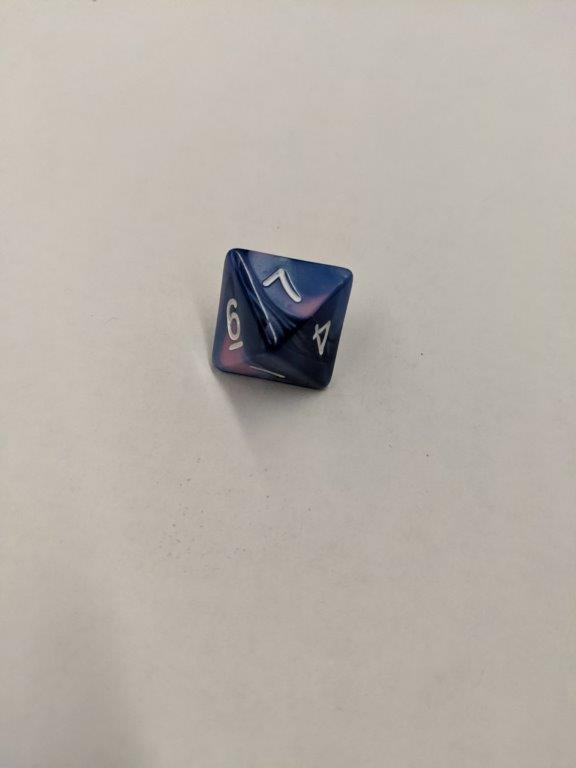d8-7: (210, 248, 352, 392)
